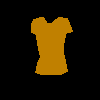maglia: (30, 16, 72, 74)
